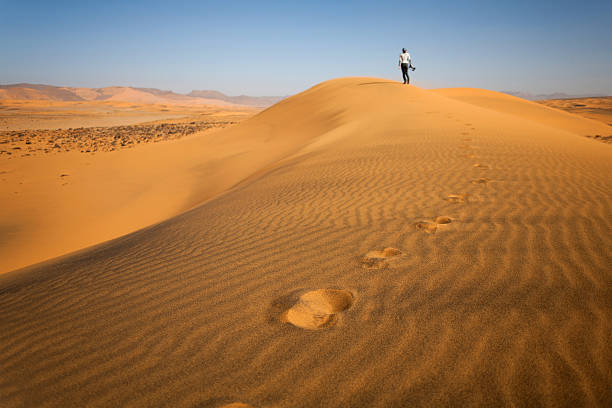human_footprint: (280, 289, 353, 329), (360, 247, 402, 268)
